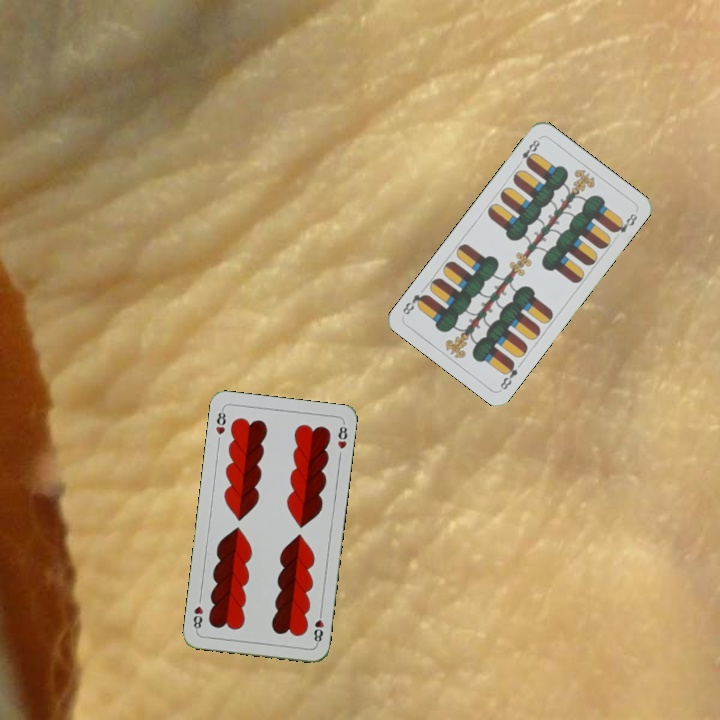E8: (513, 134, 543, 168), (496, 357, 520, 392)
H8: (310, 607, 326, 647), (212, 405, 228, 437)
